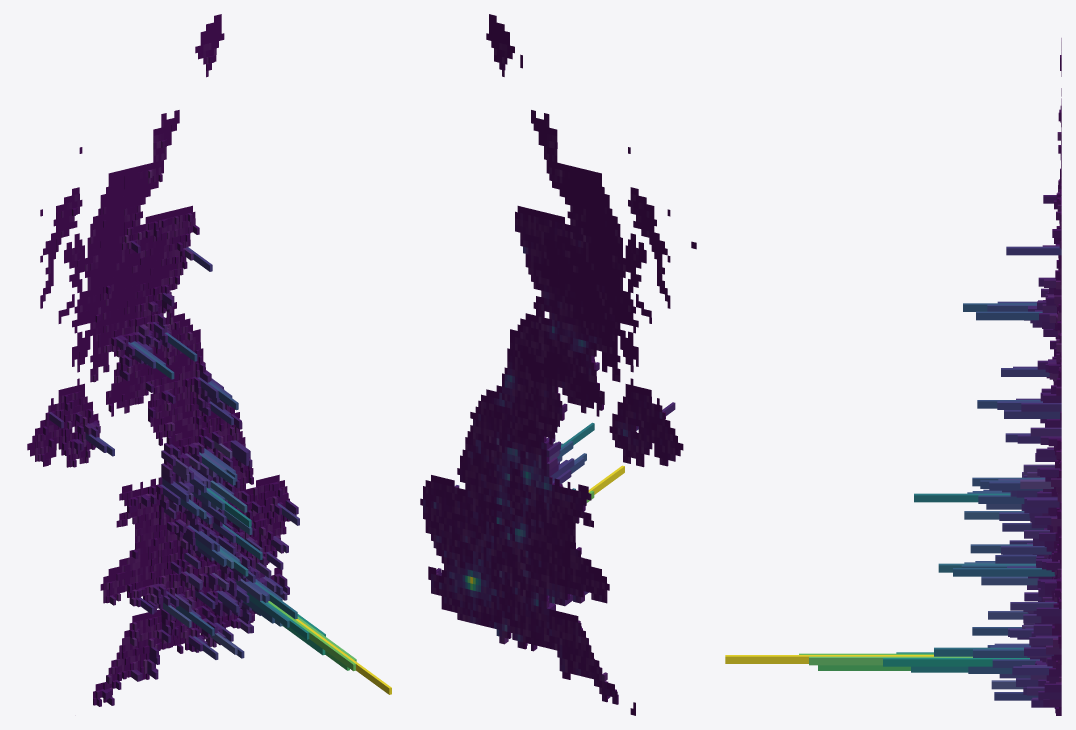
Rendered from gbr_pd_2020_1km_UNadj_ASCII_XYZ.obj.
3 renders of one model, left to right at view 1: azimuth 30°, elevation 25°; view 2: azimuth 150°, elevation 25°; view 3: azimuth 270°, elevation 25°, orthographic. The views are drawn at different scales.
Size of the model in its own units: 10.5 by 24.21 by 10.
